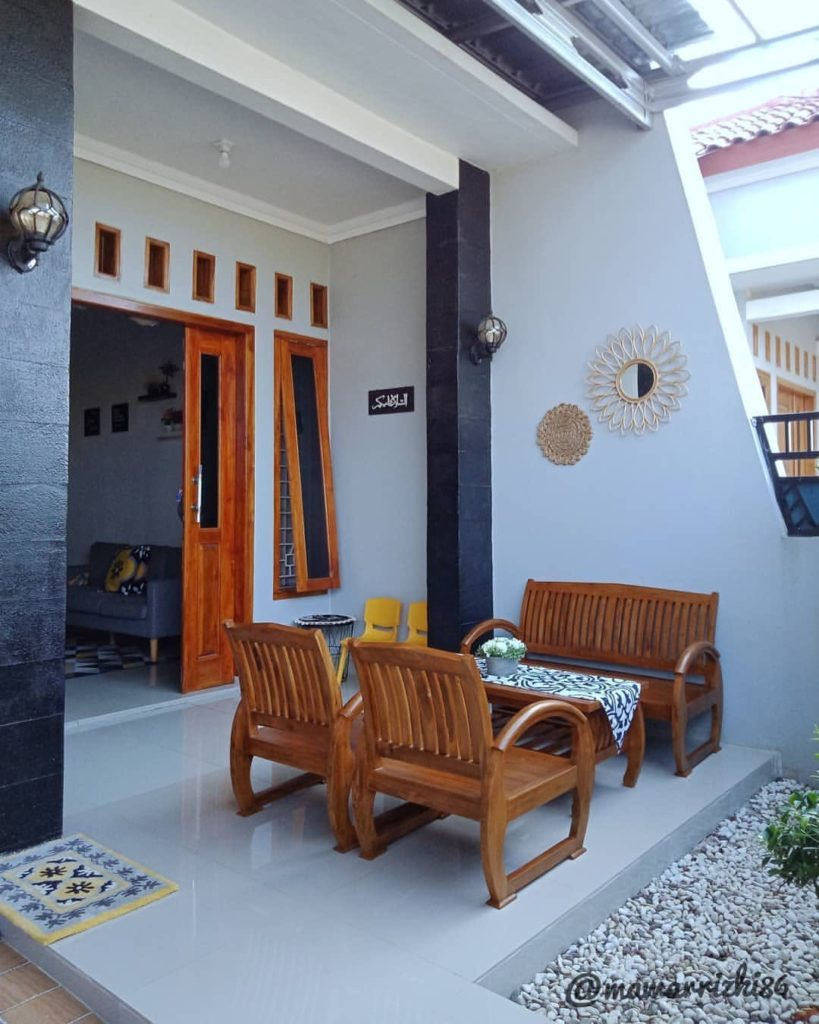bantal: (99, 546, 147, 596)
kursi: (355, 638, 601, 903), (510, 570, 736, 764), (212, 620, 351, 832)
lampu: (8, 188, 64, 285), (470, 304, 501, 368)
sova: (79, 534, 176, 682)
tanaman: (477, 636, 529, 682)
